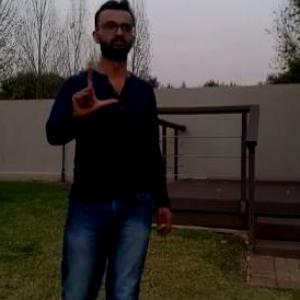land_hand: (72, 52, 124, 114)
